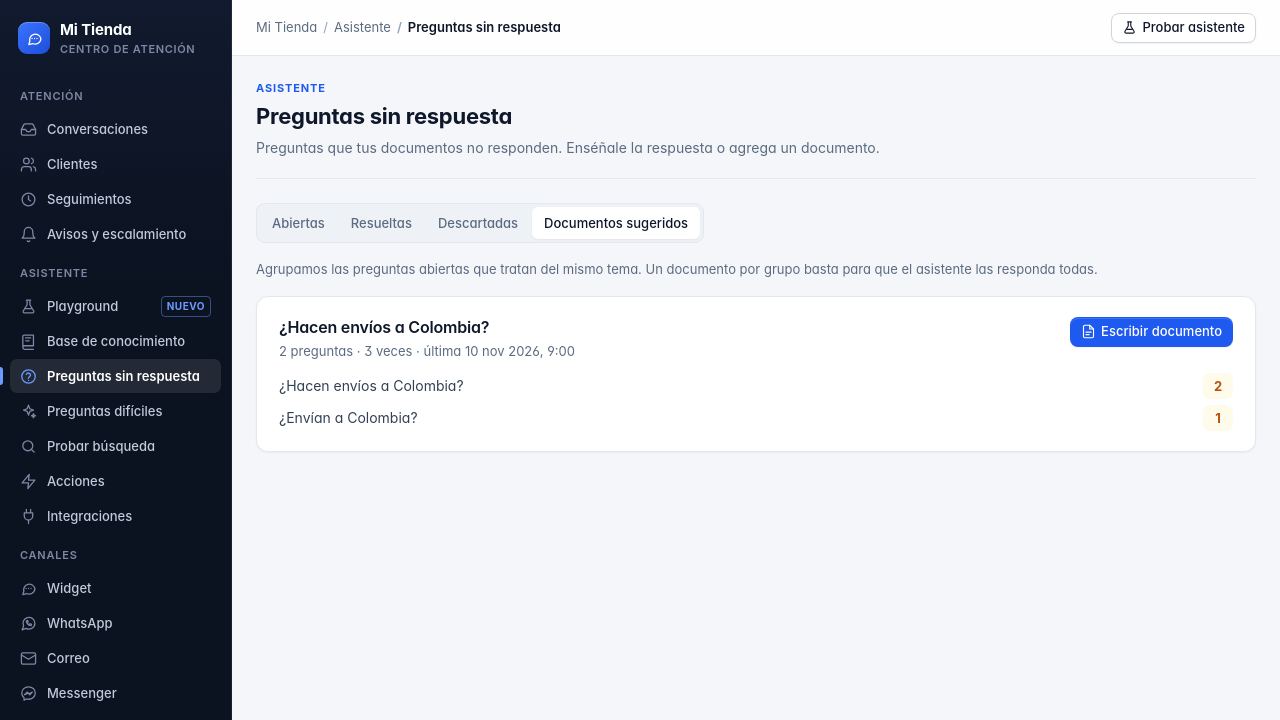
Suggested documents › turns a group of unanswered questions into a document and resolves them
The image size is (1280, 720).
Expected: the heading "¿Hacen envíos a Colombia?" is shown, [279,316,489,336]
Expected: the text "2 preguntas · 3 veces" is shown, [279,340,575,361]
Step 1. Click the button "Escribir documento" → (1152, 332), box [1070,316,1233,346]
(page scrolled)
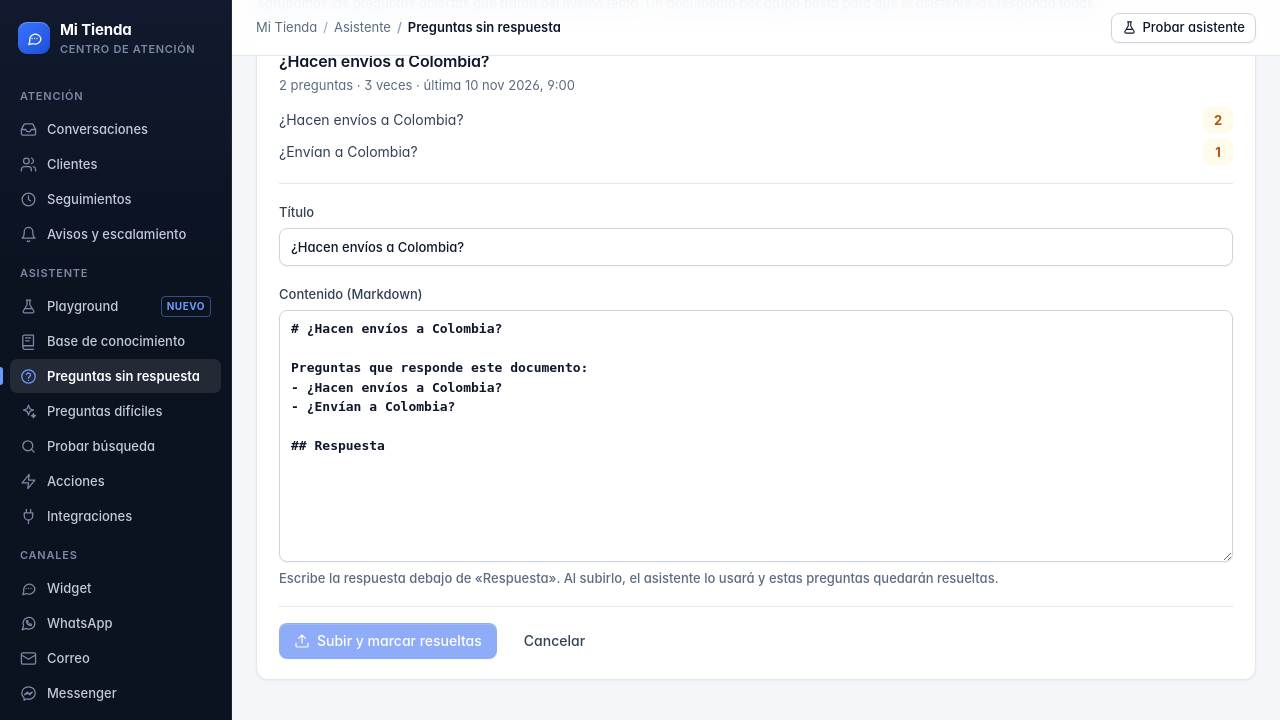
Expected: the button "Subir y marcar resueltas" is disabled, [279,623,497,659]
Step 2. Type "Sí, enviamos a Colombia en 7 días hábiles." into the text box labelled "Contenido" → (756, 436), box [279,310,1233,562]
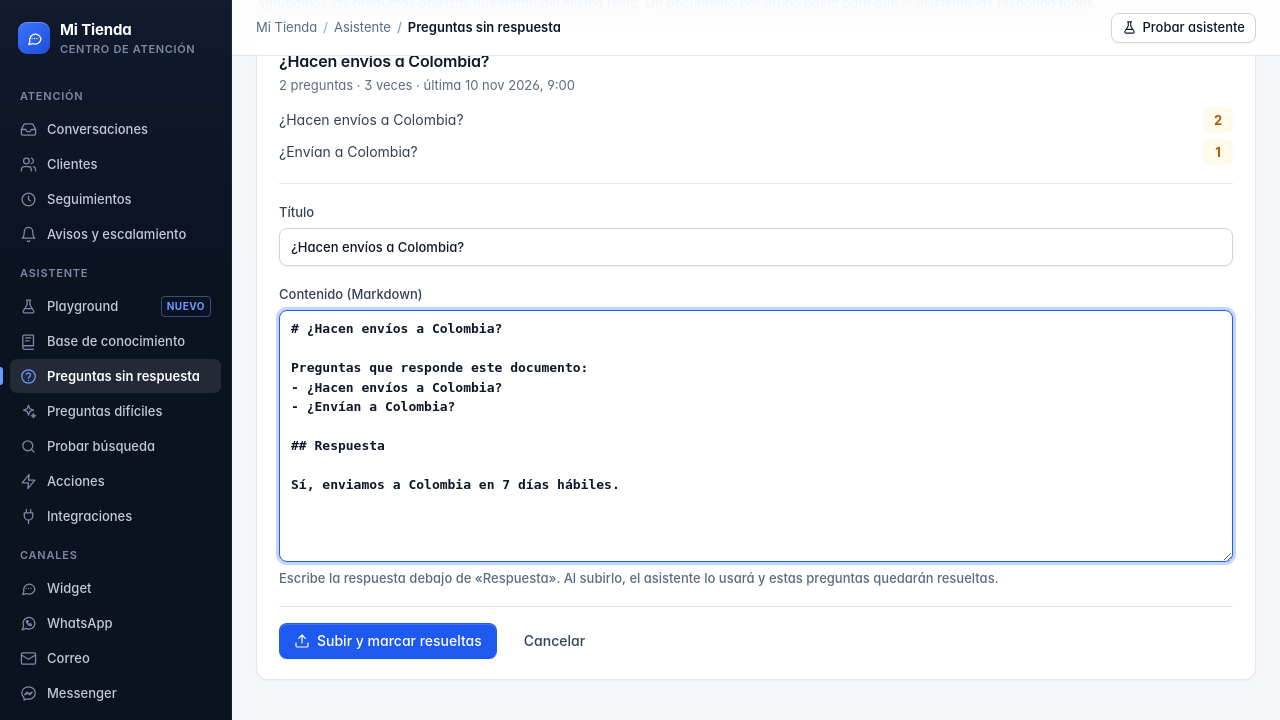
Step 3. Click the button "Subir y marcar resueltas" → (388, 641), box [279,623,497,659]
(page scrolled)
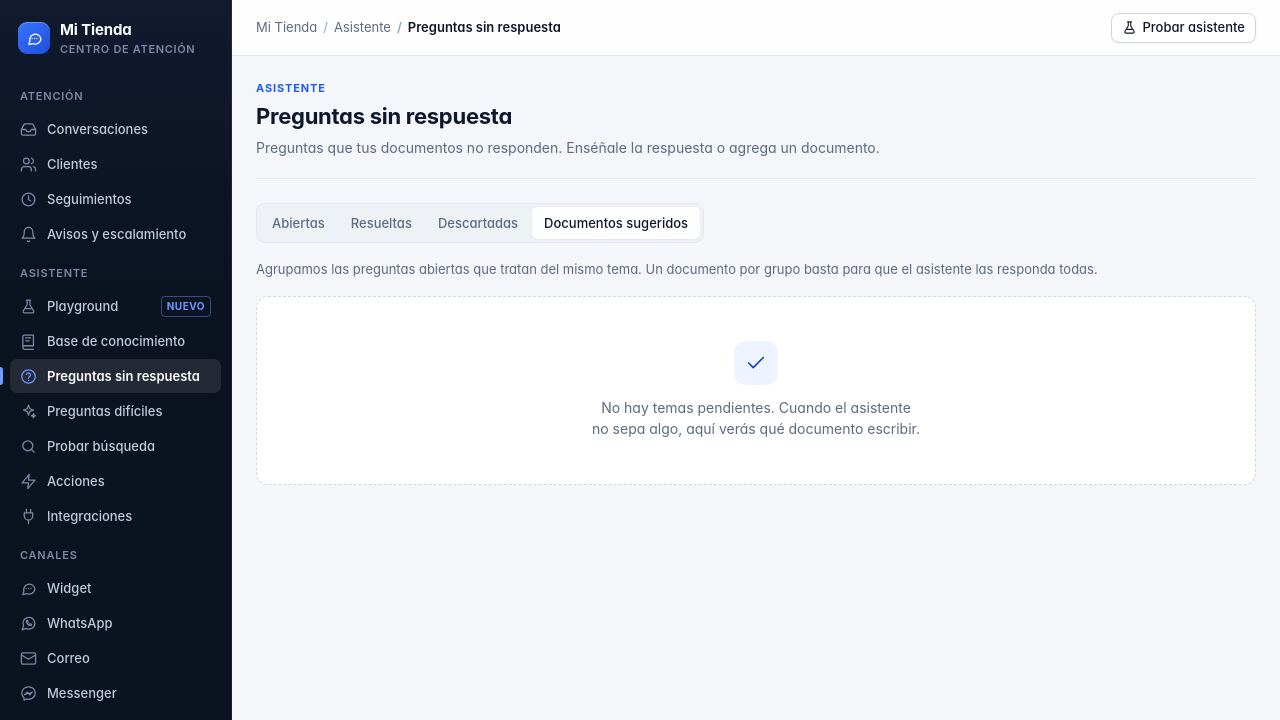
Expected: the text "No hay temas pendientes" is shown, [592,398,920,437]
